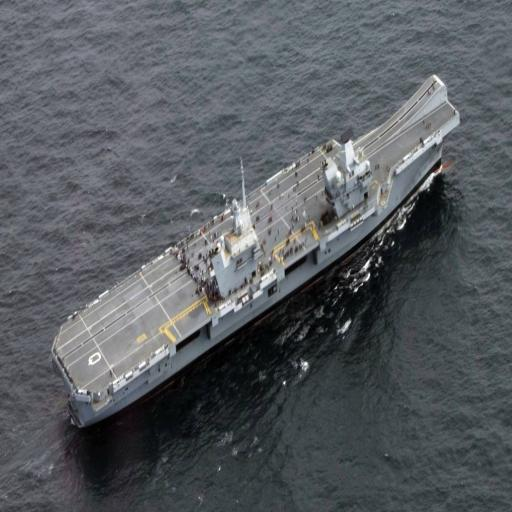Portanaves: (50, 66, 464, 433)
